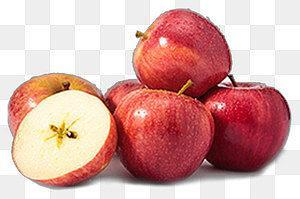apple: (109, 88, 214, 181), (130, 7, 231, 98), (200, 79, 289, 172)
